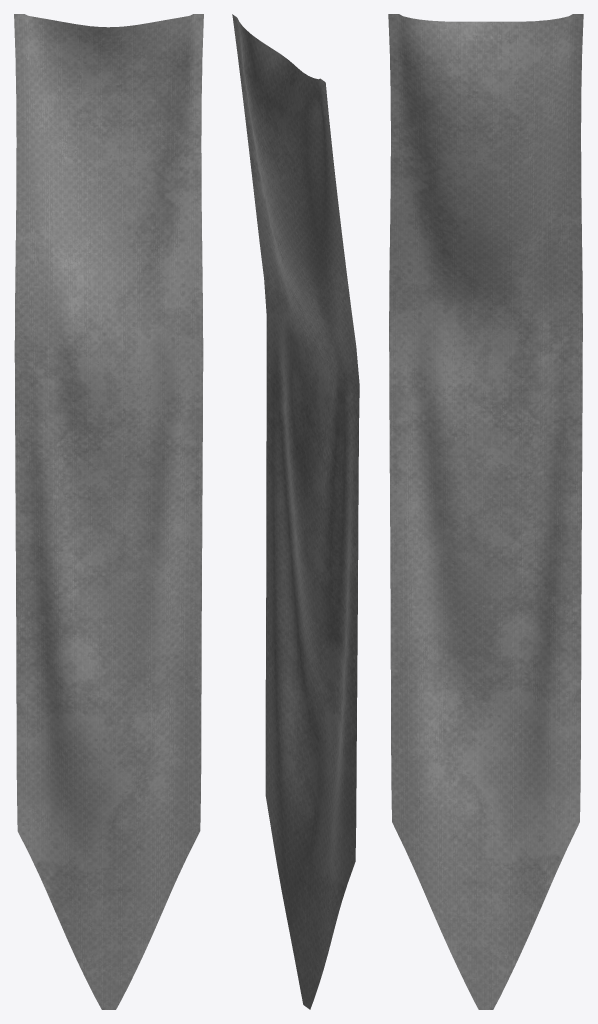
File: SM_Fabric-Penant-A.fbx
The picture shows the model from 3 angles, left to right: view 1: azimuth 90°, elevation 25°; view 2: azimuth 210°, elevation 25°; view 3: azimuth 270°, elevation 25°; orthographic projection. The views are drawn at different scales.
Visible parts, largest first — view 1: SM_Fabric-Penant-A_LOD0; view 2: SM_Fabric-Penant-A_LOD0; view 3: SM_Fabric-Penant-A_LOD0.
Boxes of the visible parts, bbox=[...] form: SM_Fabric-Penant-A_LOD0: bbox=[14, 14, 203, 1009]; SM_Fabric-Penant-A_LOD0: bbox=[232, 14, 359, 1009]; SM_Fabric-Penant-A_LOD0: bbox=[388, 14, 583, 1009].
Size of the model in its own units: 22.97 by 75.7 by 432.
2 materials, 2 textured.
